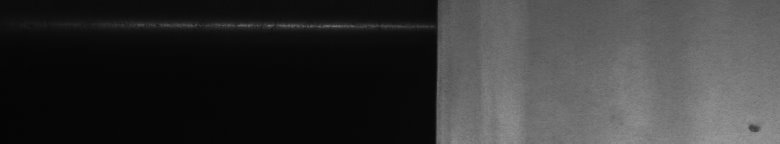fi: (744, 116, 764, 136)
